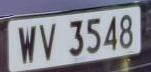3: (66, 16, 87, 60)
4: (102, 11, 118, 57)
5: (85, 13, 103, 59)
8: (118, 9, 135, 55)
V: (38, 20, 60, 64)
W: (17, 22, 40, 67)
